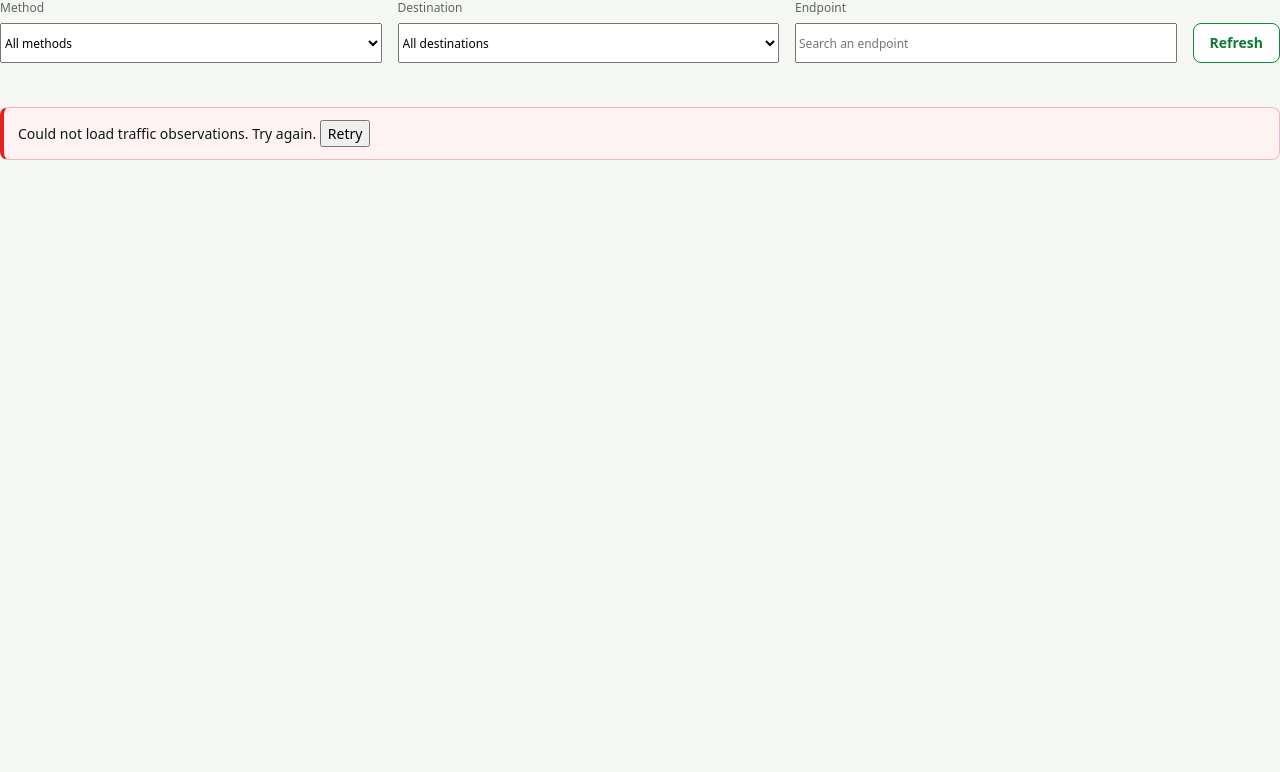
it: retries a failed request and clears filters with no matches
Step 1. Click the button "Retry" → (345,134), box left=320, top=120, right=370, bottom=147
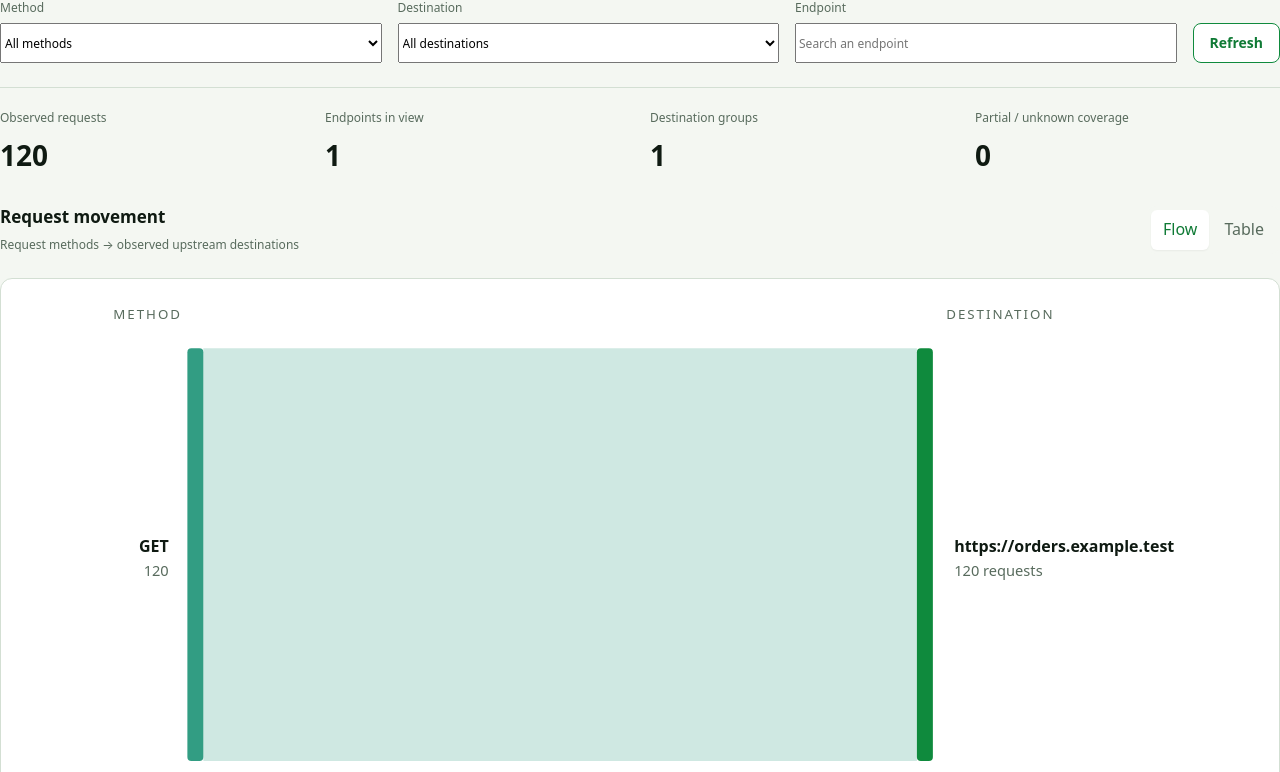
Step 2. Type "missing" into the search field labelled "Endpoint" → (986,43), box left=795, top=23, right=1176, bottom=63
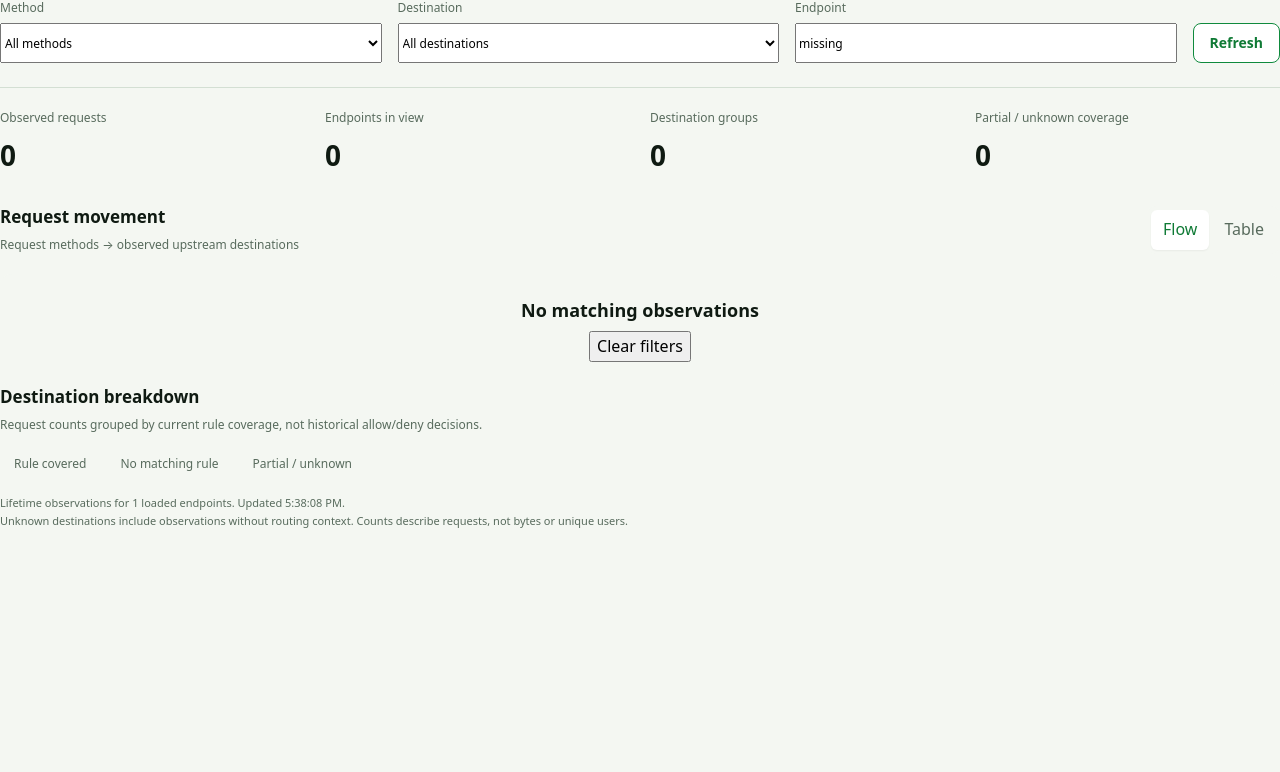
expect the heading "No matching observations" is shown: met, box left=521, top=298, right=759, bottom=322
Step 3. Click the button "Clear filters" → (640,346), box left=589, top=331, right=691, bottom=362
(page scrolled)
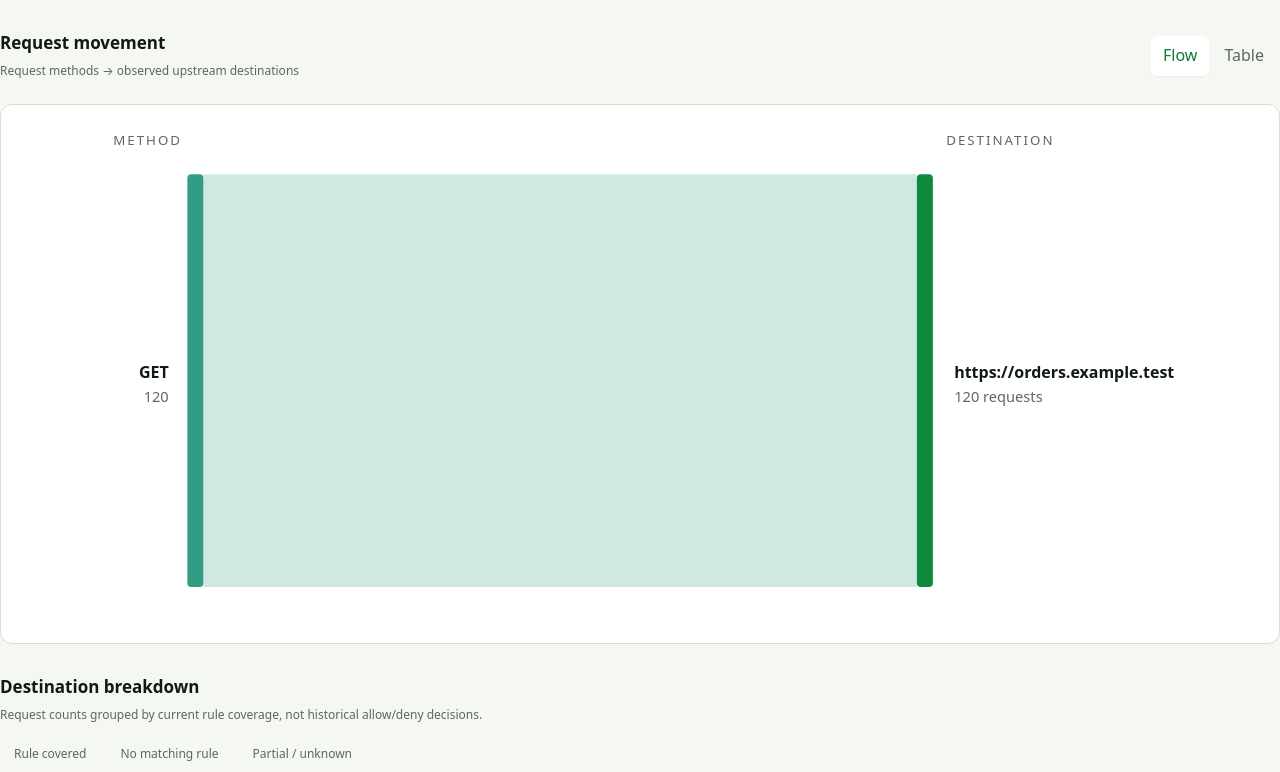
expect the picture is shown: met
